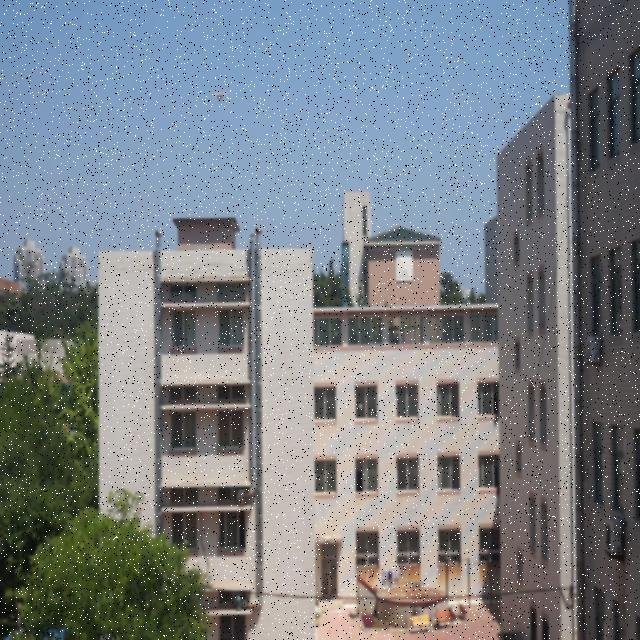UAV: (213, 92, 228, 102)
